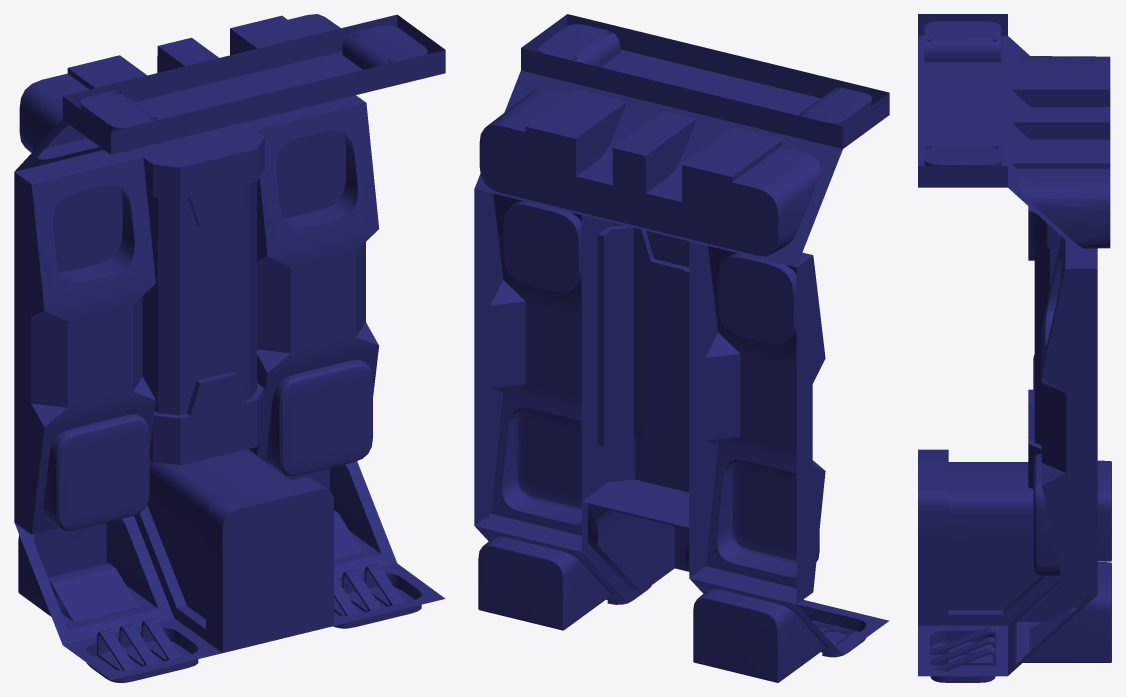
File: CBig_Wall_Line_B.FBX
3 renders of one model, left to right at view 1: azimuth 30°, elevation 25°; view 2: azimuth 150°, elevation 25°; view 3: azimuth 270°, elevation 25°, orthographic. The views are drawn at different scales.
Parts seen in each view (by area): view 1: CBig_Wall_Line_B; view 2: CBig_Wall_Line_B; view 3: CBig_Wall_Line_B.
Part boxes in pixels (bbox=[...]): CBig_Wall_Line_B: bbox=[14, 14, 445, 682]; CBig_Wall_Line_B: bbox=[474, 14, 889, 682]; CBig_Wall_Line_B: bbox=[918, 14, 1111, 682].
Size of the model in its own units: 300 by 481 by 162.
